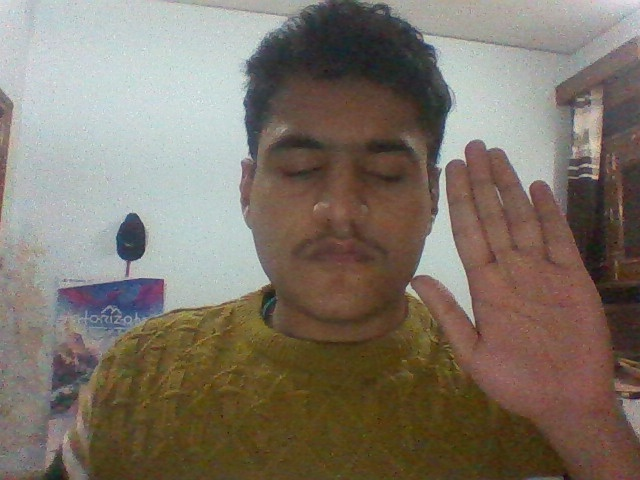Hello: (405, 139, 615, 464)
